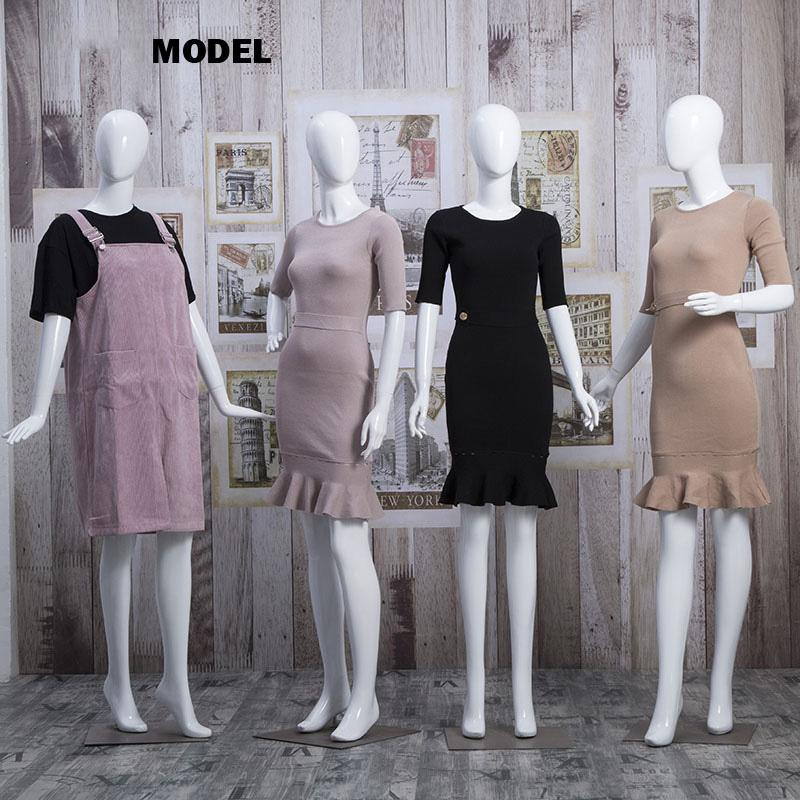person-like: (3, 107, 277, 743), (582, 87, 798, 749), (402, 95, 602, 745), (261, 106, 415, 745)
